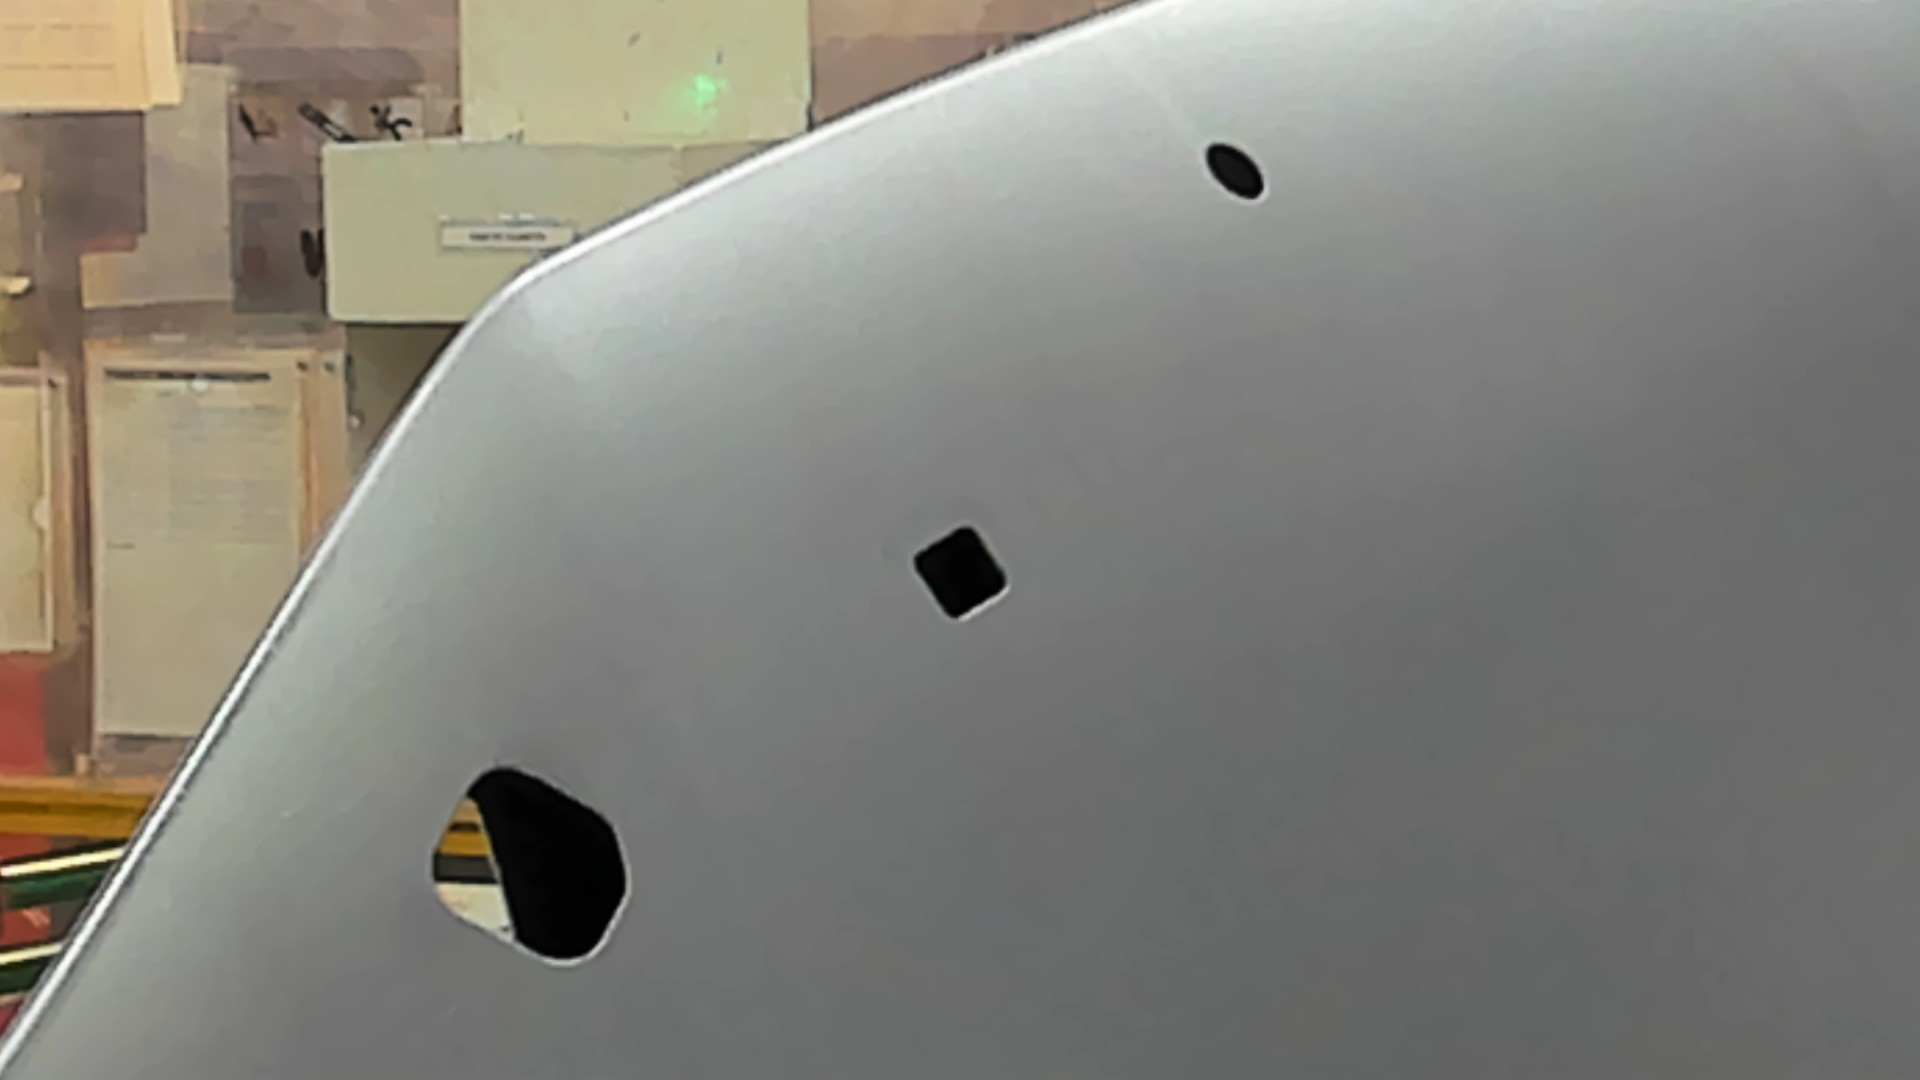chico: (1189, 129, 1278, 218)
grande: (413, 753, 651, 975)
mediano: (889, 508, 1039, 636)
